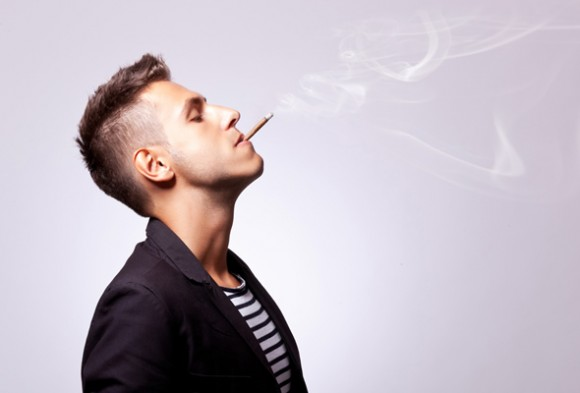cigarette: (236, 109, 276, 152)
